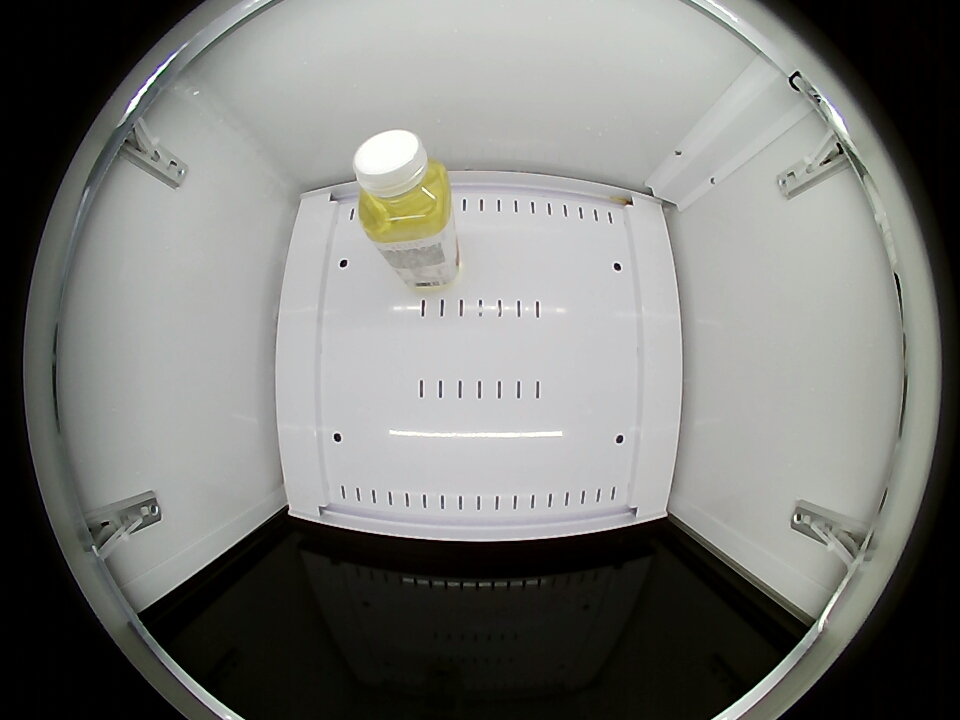chapai2: (353, 129, 453, 245)
